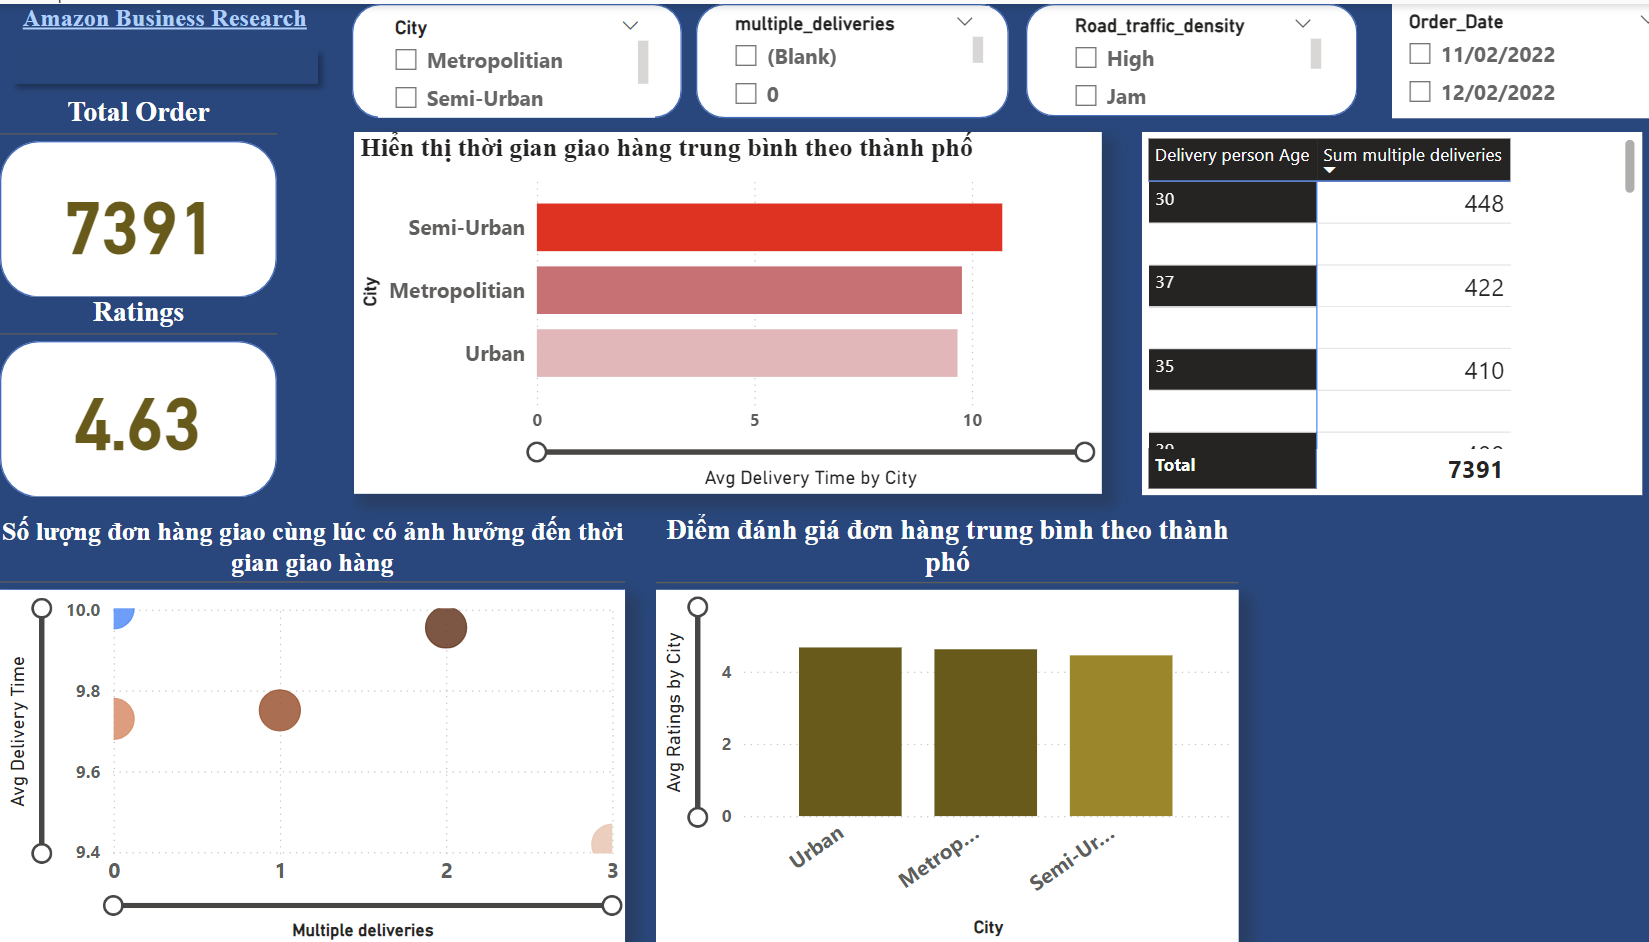

This screenshot's page, from the dashboard's own definition file:
{"tool":"powerbi","page":{"name":"Detail","canvas":[1280,720],"ordinal":3},"visuals":[{"type":"shape","title":"Amazon Business Research","box":[0,0,252.4,70],"z":0},{"type":"shape","box":[269.7,0,252.6,87.3],"z":1000},{"type":"shape","title":"Total Order","box":[0,69.7,211.9,153.4],"z":2000},{"type":"shape","box":[533.2,0,239.4,87.4],"z":3000},{"type":"slicer","fields":{"Values":["Order Information.City"]},"box":[290,4.7,212,82.6],"z":4000},{"type":"slicer","fields":{"Values":["Delivery Information.multiple_deliveries"]},"box":[549,1.4,207.8,83.1],"z":5000},{"type":"shape","box":[785.5,0,253.7,86],"z":6000},{"type":"shape","title":"Ratings","box":[0,223.1,211.9,153.4],"z":7000},{"type":"card","fields":{"Values":["Delivery Information.multiple_deliveries"]},"box":[18.1,118.5,177.1,93.4],"z":8000},{"type":"card","fields":{"Values":["Order Information.Avg Ratings by City"]},"box":[26.5,269.1,159,90.6],"z":9000},{"type":"shape","title":"Số lượng đơn hàng giao cùng lúc có ảnh hưởng đến thời gian giao hàng ","box":[0,391.8,478.3,327.7],"z":10000},{"type":"shape","title":"Điểm đánh giá đơn hàng trung bình theo thành phố","box":[502,390.5,446.2,330.3],"z":11000},{"type":"slicer","fields":{"Values":["Order Information.Road_traffic_density"]},"box":[809.9,2.9,206.4,80.3],"z":12000},{"type":"slicer","fields":{"Values":["Order Information.Order_Date"]},"box":[1065,0,215,87.4],"z":13000},{"type":"scatterChart","fields":{"X":["Delivery Information.multiple_deliveries"],"Y":["Order Information.Avg Delivery Time"]},"box":[0,448.6,478.7,272.3],"z":14000},{"type":"clusteredColumnChart","fields":{"Category":["Order Information.City"],"Y":["Order Information.Avg Ratings by City"]},"box":[502,449.2,446.2,270.1],"z":15000},{"type":"barChart","title":"Hiển thị thời gian giao hàng trung bình theo thành phố","fields":{"Category":["Order Information.City"],"Y":["Order Information.Avg Delivery Time by City"]},"box":[270.4,98.6,572.6,276.8],"z":16000},{"type":"pivotTable","fields":{"Rows":["Delivery Information.Delivery_person_Age"],"Values":["Delivery Information.multiple_deliveries"]},"box":[873.8,98.6,382.8,277.8],"z":17000}]}

Visuals, with their boxes in screenshot pixels (x1, y1, x2, y2), scaled from the page's 1280x720 canvas onto the 1649x942 screenshot:
"Amazon Business Research" shape: l=0, t=0, r=325, b=92
shape: l=347, t=0, r=673, b=114
"Total Order" shape: l=0, t=91, r=273, b=292
shape: l=687, t=0, r=995, b=114
slicer - Order Information.City: l=374, t=6, r=647, b=114
slicer - Delivery Information.multiple_deliveries: l=707, t=2, r=975, b=111
shape: l=1012, t=0, r=1339, b=113
"Ratings" shape: l=0, t=292, r=273, b=493
card - Delivery Information.multiple_deliveries: l=23, t=155, r=251, b=277
card - Order Information.Avg Ratings by City: l=34, t=352, r=239, b=471
"Số lượng đơn hàng giao cùng lúc có ảnh hưởng đến thời gian giao hàng " shape: l=0, t=513, r=616, b=941
"Điểm đánh giá đơn hàng trung bình theo thành phố" shape: l=647, t=511, r=1222, b=941
slicer - Order Information.Road_traffic_density: l=1043, t=4, r=1309, b=109
slicer - Order Information.Order_Date: l=1372, t=0, r=1648, b=114
scatterChart - Delivery Information.multiple_deliveries x Order Information.Avg Delivery Time: l=0, t=587, r=617, b=941
clusteredColumnChart - Order Information.City x Order Information.Avg Ratings by City: l=647, t=588, r=1222, b=941
"Hiển thị thời gian giao hàng trung bình theo thành phố" barChart: l=348, t=129, r=1086, b=491
pivotTable - Delivery Information.Delivery_person_Age x Delivery Information.multiple_deliveries: l=1126, t=129, r=1619, b=492
